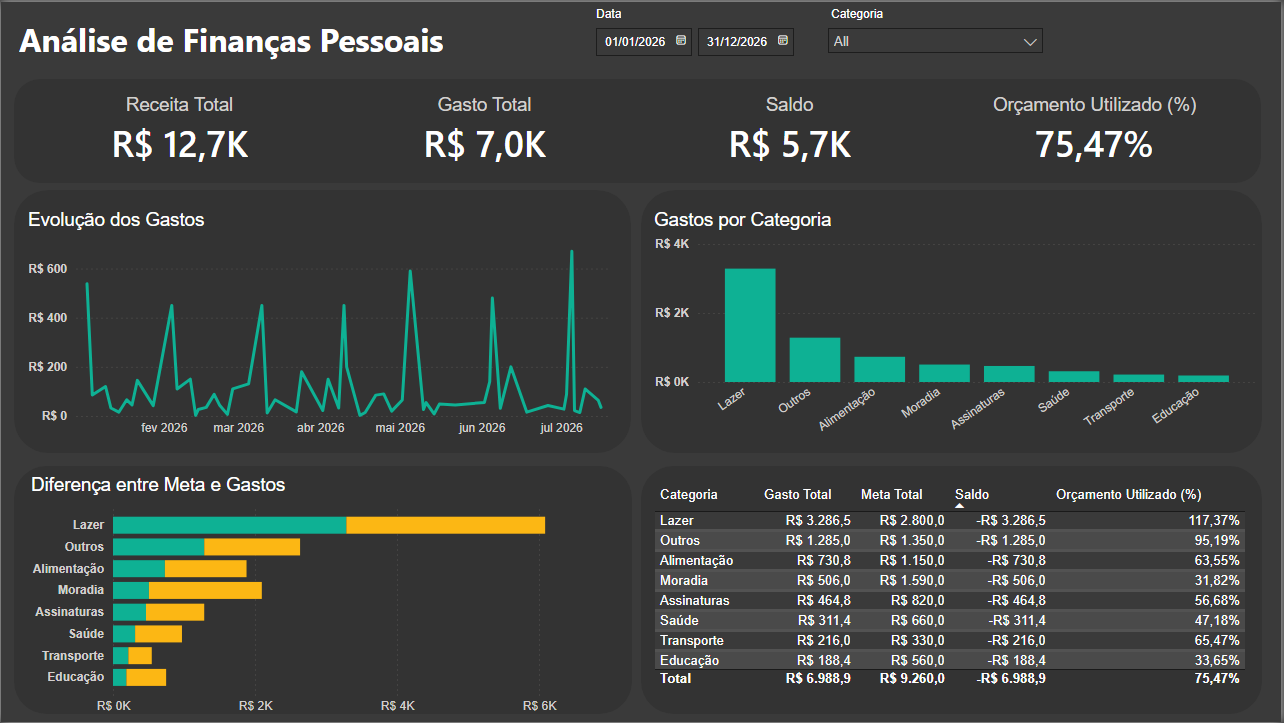

Layout of this report page (visuals, bound fields, positions):
{"tool":"powerbi","page":{"name":"Page 1","canvas":[1280,720],"ordinal":0},"visuals":[{"type":"group","id":"g1","title":"Background","box":[13,77,1248,635],"z":0},{"type":"shape","box":[640,464,621,248],"z":0,"group":"g1"},{"type":"textbox","box":[13,10,451,67],"z":1000},{"type":"shape","box":[13,77,1247,104],"z":1000,"group":"g1"},{"type":"cardVisual","fields":{"Data":["_Measures.Receita Total","_Measures.Gasto Total","_Measures.Saldo","_Measures.Orçamento Utilizado (%)"]},"box":[13,77,1247,102],"z":2000},{"type":"shape","box":[13,188,617,263],"z":2000,"group":"g1"},{"type":"shape","box":[640,188,621,263],"z":3000,"group":"g1"},{"type":"lineChart","title":"Evolução dos Gastos","fields":{"Category":["date_dim.Date"],"Y":["_Measures.Gasto Total"]},"box":[22,207,605,235],"z":3000},{"type":"columnChart","title":"Gastos por Categoria","fields":{"Category":["categorias.nome_categoria"],"Y":["_Measures.Gasto Total"]},"box":[648,207,612,244],"z":4000},{"type":"shape","box":[13,464,618,248],"z":4000,"group":"g1"},{"type":"slicer","fields":{"Values":["date_dim.Date"]},"box":[582,0,235,77],"z":5000},{"type":"slicer","fields":{"Values":["categorias.nome_categoria"]},"box":[817,0,235,77],"z":6000},{"type":"barChart","title":"Diferença entre Meta e Gastos","fields":{"Y":["_Measures.Gasto Total","_Measures.Meta Total"],"Category":["categorias.nome_categoria"]},"box":[25,472,606,248],"z":7000},{"type":"tableEx","fields":{"Values":["categorias.nome_categoria","_Measures.Gasto Total","_Measures.Meta Total","_Measures.Saldo","_Measures.Orçamento Utilizado (%)"]},"box":[648,479,604,218],"z":8000}]}

Visuals, with their boxes in screenshot pixels (x1, y1, x2, y2), scaled from the page's 1280x720 canvas onto the 1284x723 screenshot:
"Background" group: box=[13, 77, 1265, 715]
shape: box=[642, 466, 1265, 715]
textbox: box=[13, 10, 465, 77]
shape: box=[13, 77, 1264, 182]
cardVisual - _Measures.Receita Total x _Measures.Gasto Total: box=[13, 77, 1264, 180]
shape: box=[13, 189, 632, 453]
shape: box=[642, 189, 1265, 453]
"Evolução dos Gastos" lineChart: box=[22, 208, 629, 444]
"Gastos por Categoria" columnChart: box=[650, 208, 1264, 453]
shape: box=[13, 466, 633, 715]
slicer - date_dim.Date: box=[584, 0, 820, 77]
slicer - categorias.nome_categoria: box=[820, 0, 1055, 77]
"Diferença entre Meta e Gastos" barChart: box=[25, 474, 633, 722]
tableEx - categorias.nome_categoria x _Measures.Gasto Total: box=[650, 481, 1256, 700]
